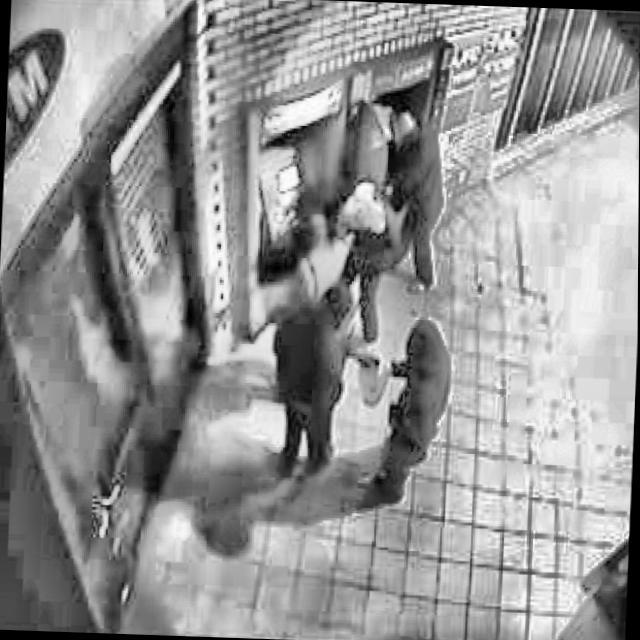person: (378, 307, 456, 524), (278, 266, 350, 469), (380, 106, 446, 266), (336, 192, 406, 334), (306, 223, 338, 284)
